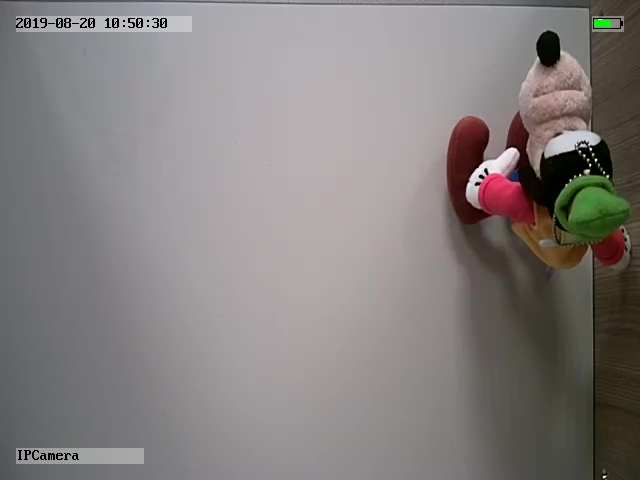goofy: (444, 29, 634, 272)
